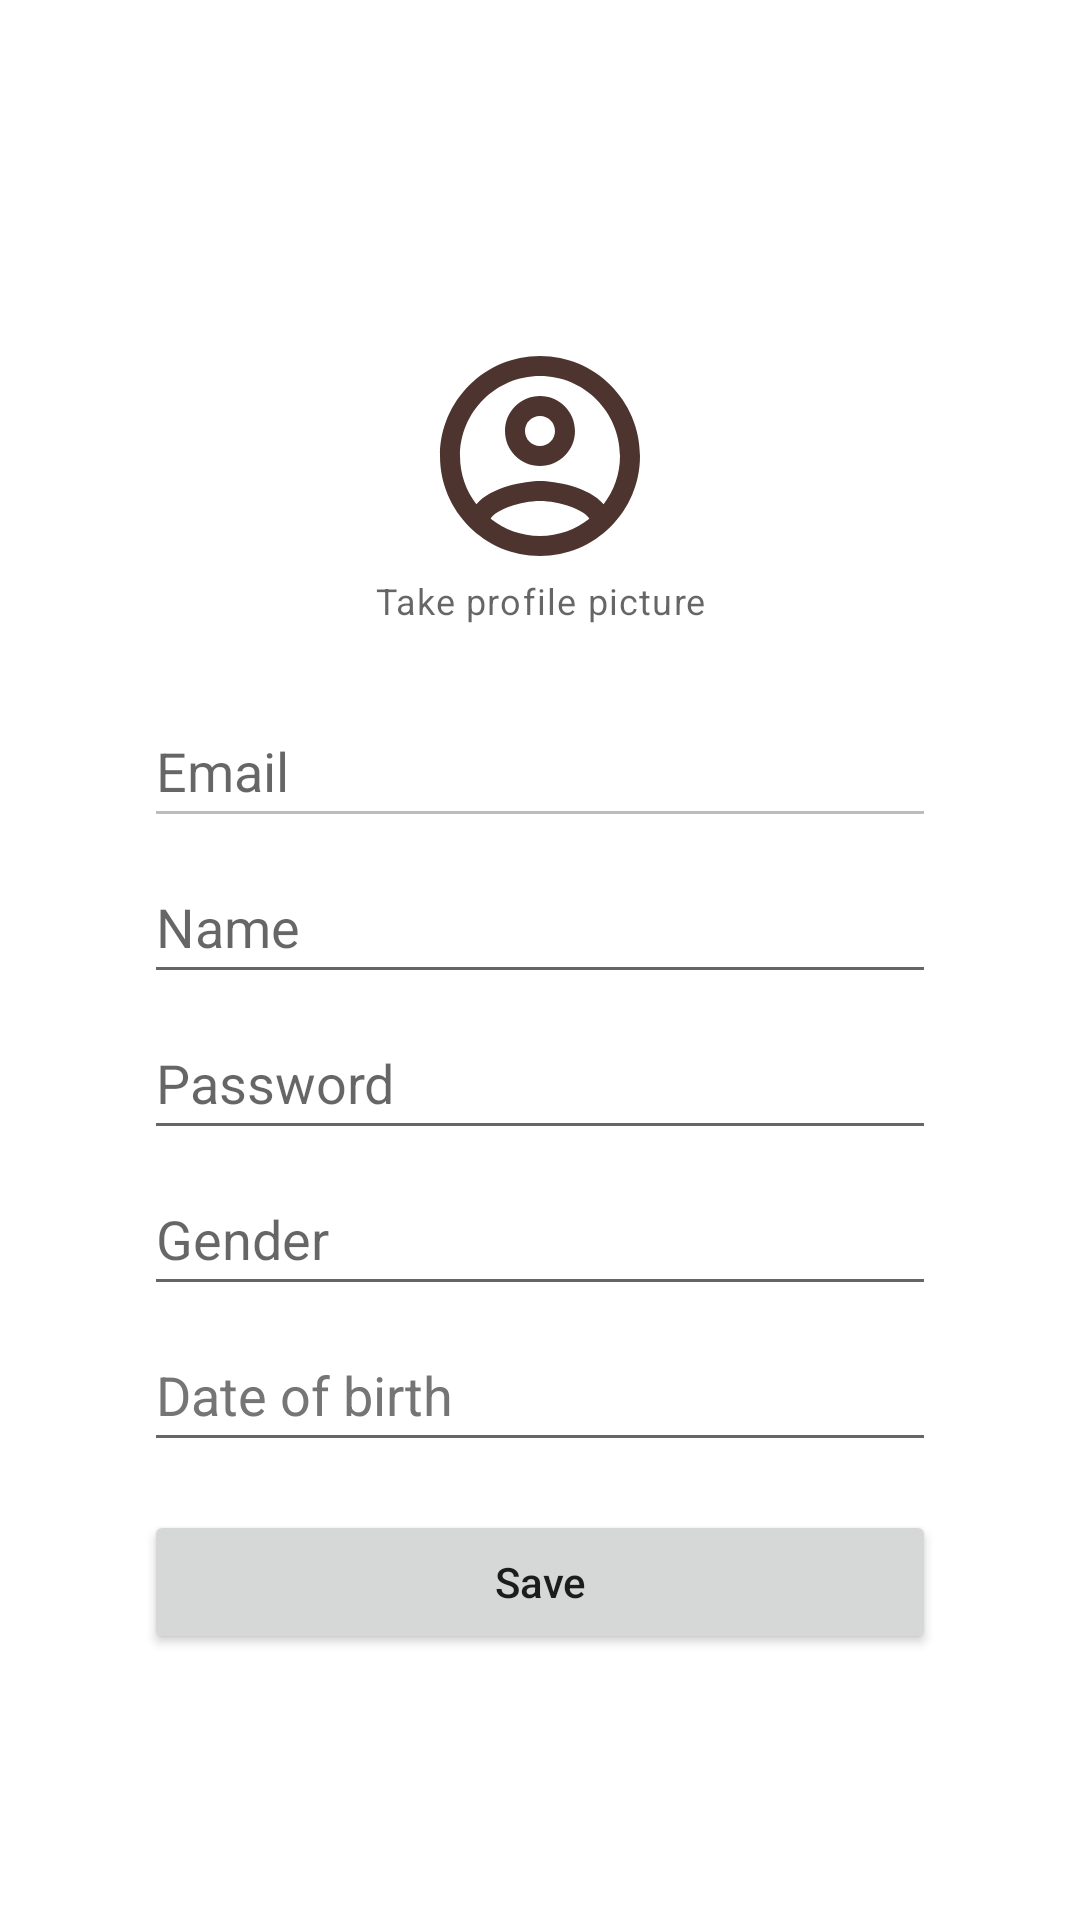

Icons on this 1080*1920 Android screen, each with the point to tap as (x=x, y=y):
profile round: (x=540, y=456)
